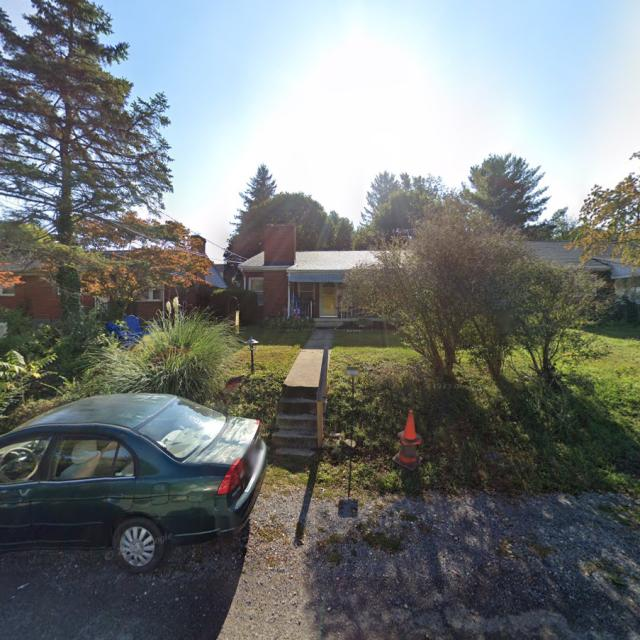House: (0, 234, 229, 338), (238, 220, 438, 328), (501, 239, 640, 324)
